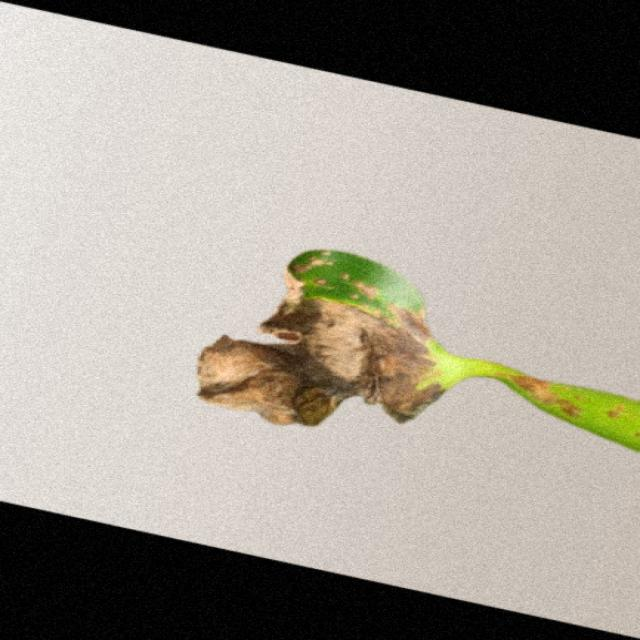daun berpenyakit karat: (200, 250, 638, 449)
